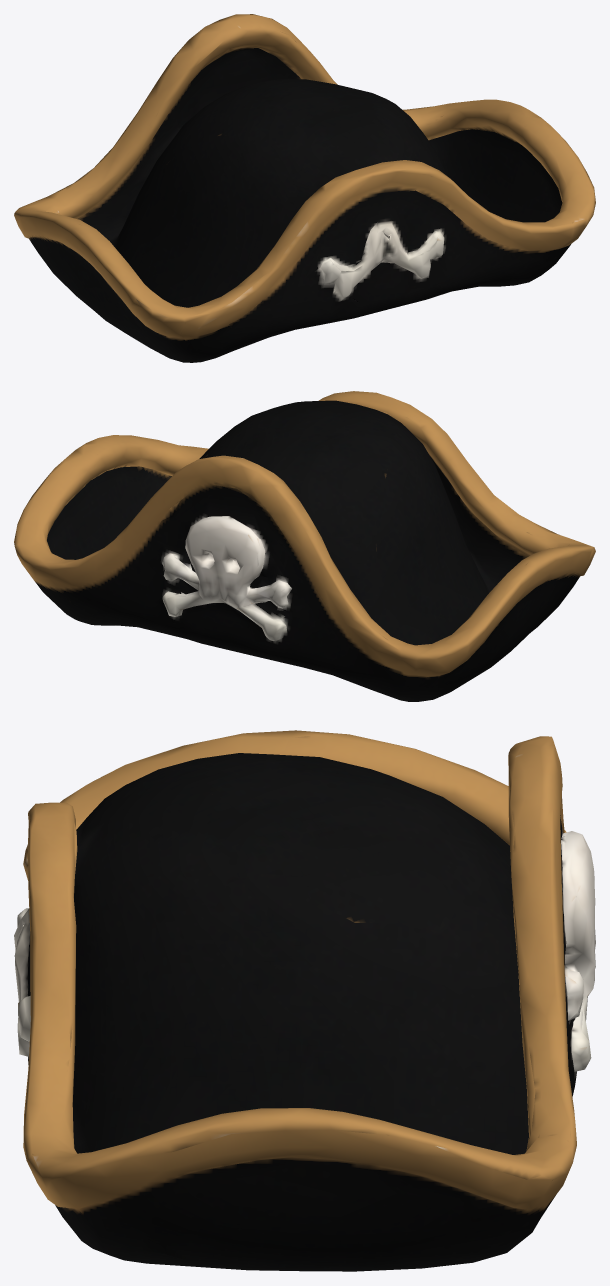
The model's file is pirate-hat.glb.
The picture shows the model from 3 angles, top to bottom: view 1: azimuth 30°, elevation 25°; view 2: azimuth 150°, elevation 25°; view 3: azimuth 270°, elevation 25°; orthographic projection. The views are drawn at different scales.
Visible parts, largest first — view 1: pirate-hat; view 2: pirate-hat; view 3: pirate-hat.
Part boxes in pixels (x1,y1,x2,y2): pirate-hat: (14,14,595,362); pirate-hat: (14,391,595,701); pirate-hat: (14,730,595,1271).
Size of the model in its own units: 1 by 0.444 by 0.6295.
1 material, 1 textured.
